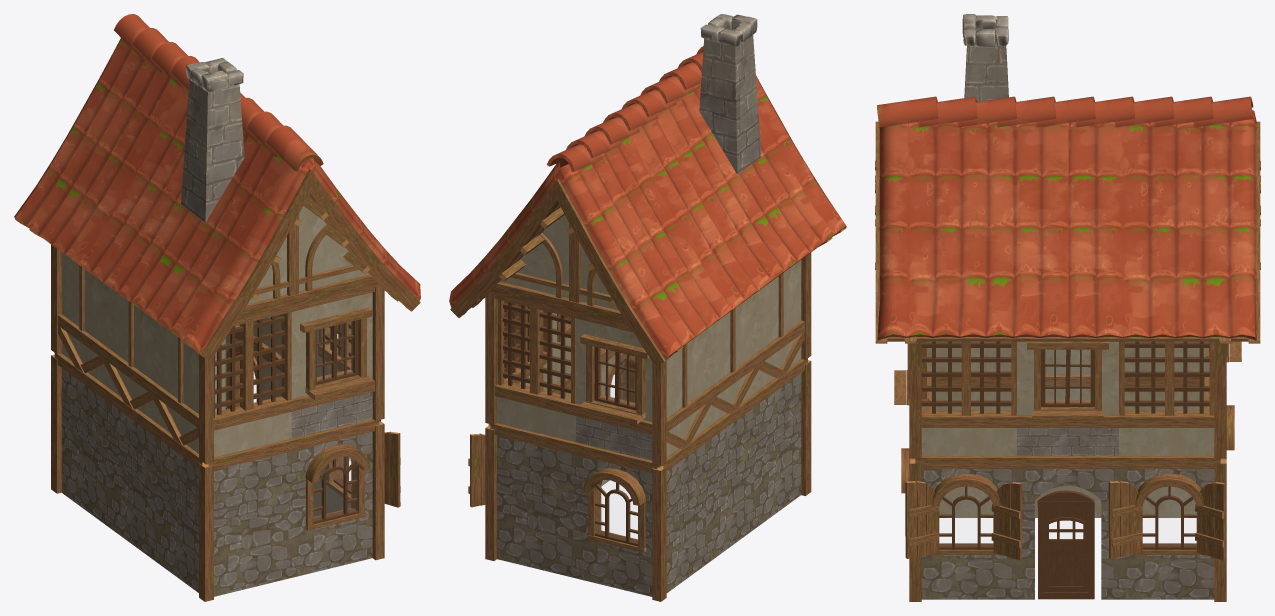
Rendered from megakit_house_long.glb.
The picture shows the model from 3 angles, left to right: view 1: azimuth 30°, elevation 25°; view 2: azimuth 150°, elevation 25°; view 3: azimuth 270°, elevation 25°; orthographic projection. The views are drawn at different scales.
Parts seen in each view (by area): view 1: megakit_house_long; view 2: megakit_house_long; view 3: megakit_house_long.
Part boxes in pixels (left/top/right/bottom): megakit_house_long: left=14, top=14, right=420, bottom=601; megakit_house_long: left=449, top=14, right=846, bottom=601; megakit_house_long: left=875, top=14, right=1260, bottom=601.
Size of the model in its own units: 5.51 by 11.12 by 7.59.
8 materials, 7 textured.
